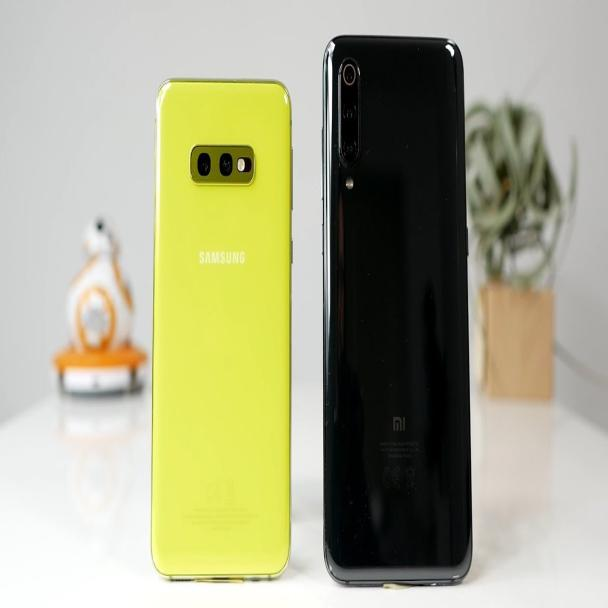Handphone: (318, 33, 474, 590), (147, 70, 295, 584)
